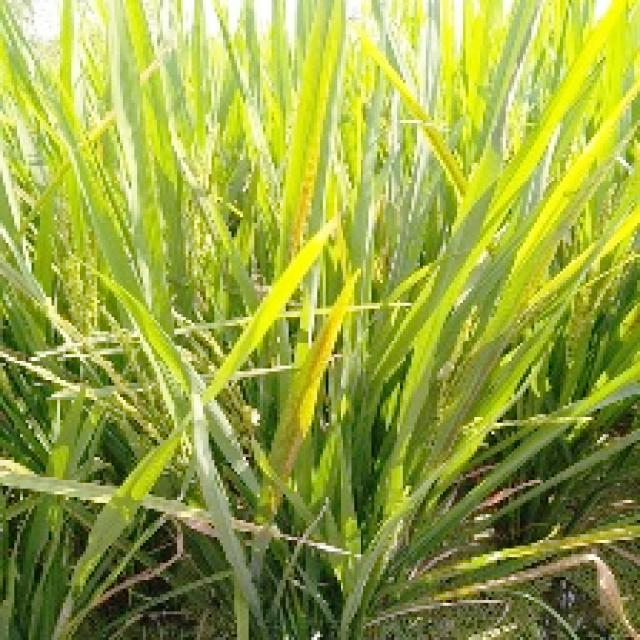health: (378, 2, 640, 317)
